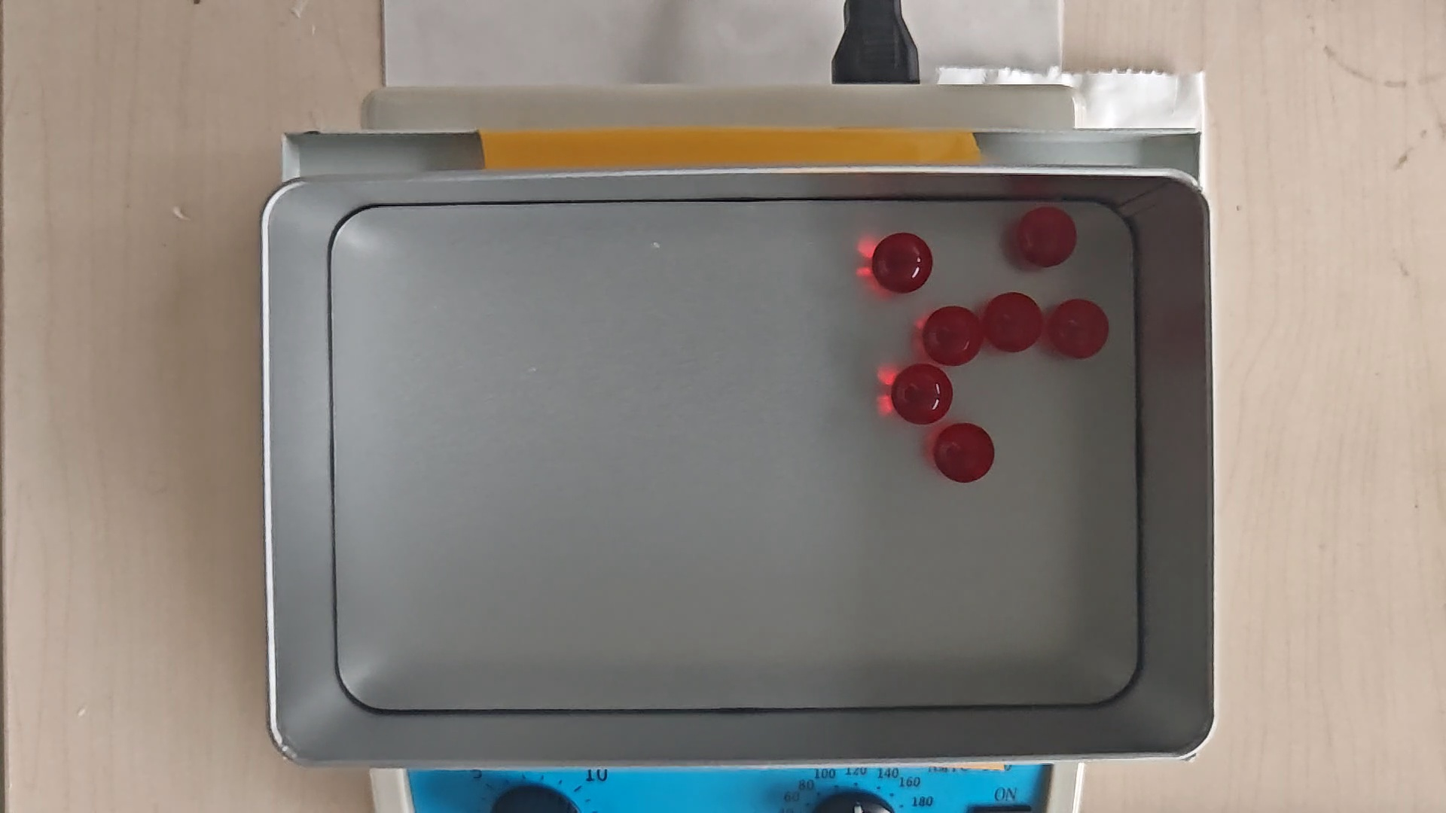ball: (1016, 206, 1078, 268), (933, 422, 995, 484), (1048, 299, 1109, 360), (894, 362, 953, 425), (873, 233, 934, 293), (926, 305, 982, 367), (986, 291, 1042, 353)
container: (331, 199, 1142, 712)
